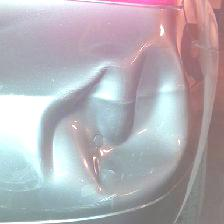bumper_dent: (29, 29, 204, 205)
